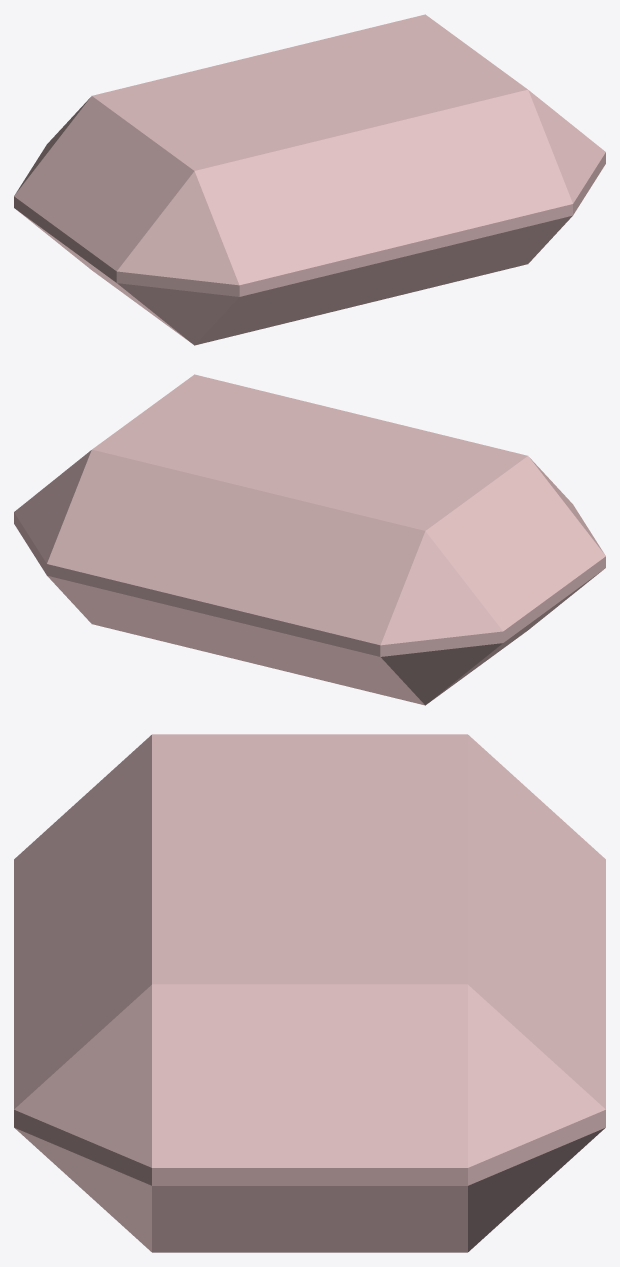
File: SM_Cushion_02.fbx
3 views of the same model, one above another, from view 1: azimuth 30°, elevation 25°; view 2: azimuth 150°, elevation 25°; view 3: azimuth 270°, elevation 25° (orthographic). The views are drawn at different scales.
Parts seen in each view (by area): view 1: Cushion_02; view 2: Cushion_02; view 3: Cushion_02.
Part boxes in pixels (bbox=[...]): Cushion_02: bbox=[14, 14, 605, 345]; Cushion_02: bbox=[14, 374, 605, 705]; Cushion_02: bbox=[14, 734, 605, 1252].
Size of the model in its own units: 44 by 15 by 30.
